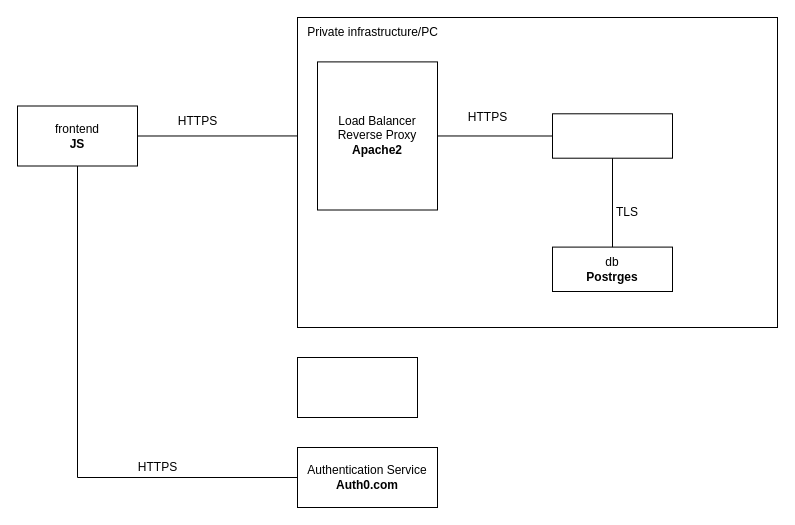
Image size: 795x525. Some labels were removed from this diagram. The shapes that lost their labels are listed below. From the top down, each one's box as (x1, y1, x2, y2) in pixels, then its label:
(552, 113, 672, 158): backend Python
(296, 356, 418, 418): PKI OpenSSL
